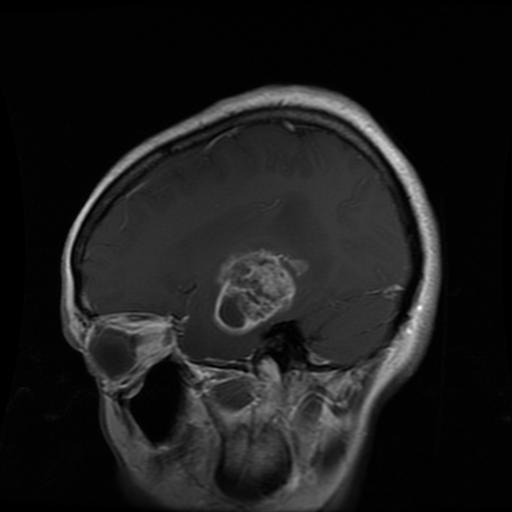Gliomia_tumour: (210, 250, 311, 335)
